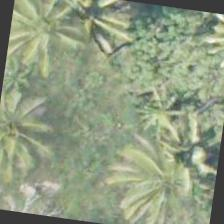Kelapa_Sawit: (105, 135, 209, 223), (40, 0, 138, 62), (7, 0, 88, 68), (0, 90, 53, 187)
